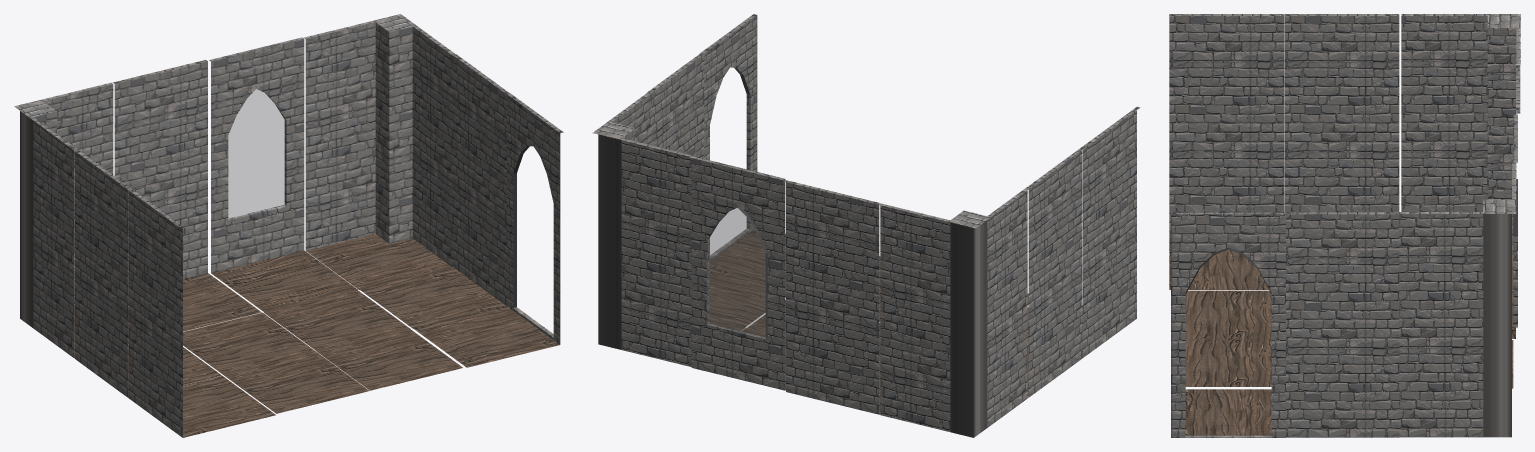
The model's file is tileset.fbx.
3 renders of one model, left to right at view 1: azimuth 30°, elevation 25°; view 2: azimuth 150°, elevation 25°; view 3: azimuth 270°, elevation 25°, orthographic. The views are drawn at different scales.
Visible parts, largest first — view 1: Tile 003, tile1, tile004, tile006, Tile 2, tile005, tile3, tile 4, tile 008, tile 006, tile 007, tile 5; view 2: Tile 2, Tile 003, tile1, tile004, tile3, tile005, tile006, tile 4; view 3: Tile 003, tile006, tile005, tile3, Tile 2, tile 4, tile 008, tile 006, tile1, tile004.
Boxes of the visible parts, x1,y1,x2,y2 form: Tile 003: (304, 14, 455, 290); tile1: (209, 37, 357, 312); tile004: (113, 60, 261, 331); tile006: (361, 54, 509, 328); Tile 2: (14, 82, 128, 357); tile005: (125, 187, 275, 437); tile3: (71, 147, 221, 398); tile 4: (414, 93, 563, 367); tile 008: (316, 328, 462, 390); tile 006: (223, 352, 369, 413); tile 007: (264, 289, 410, 350); tile 5: (183, 312, 316, 374); Tile 2: (878, 186, 1031, 437); Tile 003: (593, 92, 745, 366); tile1: (690, 156, 785, 390); tile004: (784, 180, 880, 414); tile3: (1027, 146, 1085, 397); tile005: (1027, 106, 1140, 357); tile006: (647, 53, 785, 327); tile 4: (700, 14, 785, 285); Tile 003: (1397, 163, 1516, 437); tile006: (1284, 212, 1399, 437); tile005: (1169, 14, 1284, 289); tile3: (1284, 14, 1399, 212); Tile 2: (1401, 14, 1520, 289); tile 4: (1171, 212, 1285, 437); tile 008: (1185, 338, 1271, 386); tile 006: (1185, 290, 1271, 338); tile1: (1512, 114, 1517, 388); tile004: (1512, 65, 1520, 338).
Size of the model in its own units: 325 by 170 by 241.
